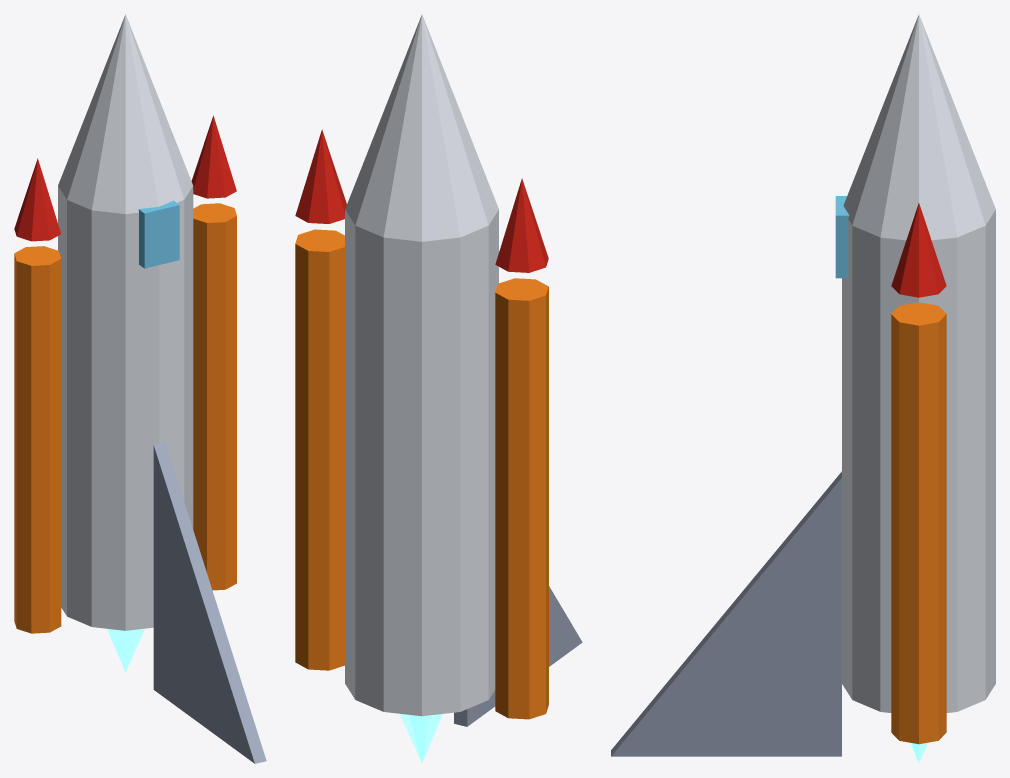
Rendered from lowpoly-rocket_shuttle.glb.
3 views of the same model, side by side, from view 1: azimuth 30°, elevation 25°; view 2: azimuth 150°, elevation 25°; view 3: azimuth 270°, elevation 25° (orthographic). The views are drawn at different scales.
Visible parts, largest first — view 1: rocket_shuttle; view 2: rocket_shuttle; view 3: rocket_shuttle.
Part boxes in pixels (<box>): rocket_shuttle: <box>14,14,266,763</box>; rocket_shuttle: <box>295,14,582,763</box>; rocket_shuttle: <box>611,14,995,763</box>.
Size of the model in its own units: 1.86 by 5.37 by 2.5.
